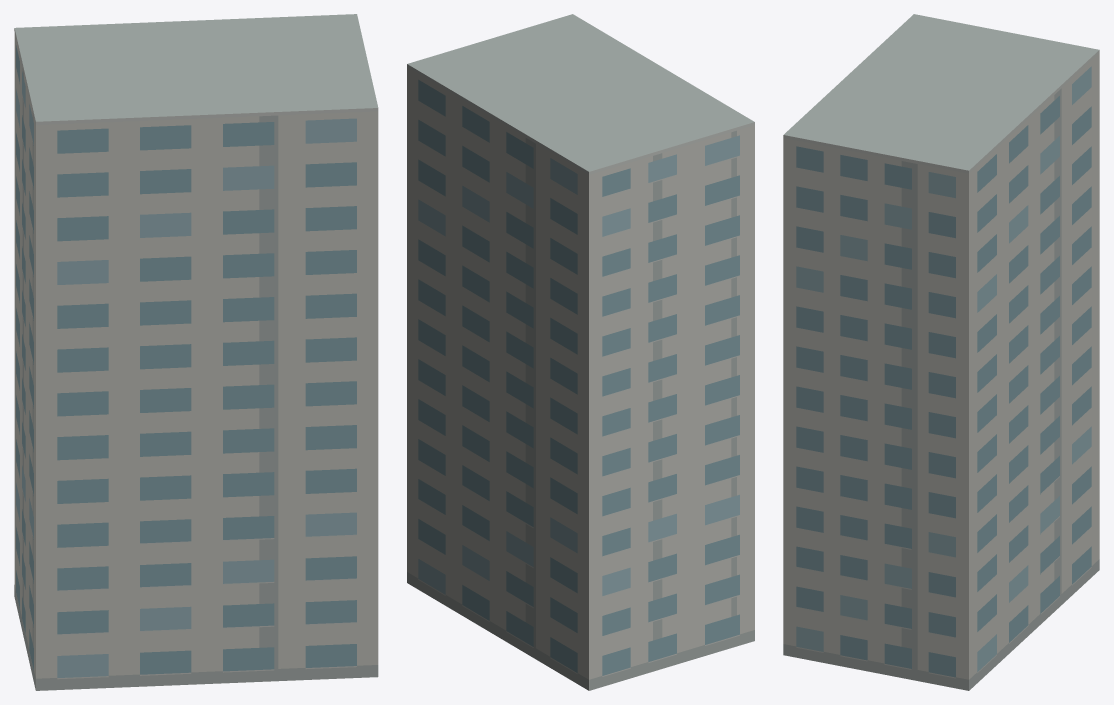
Rendered from residential-e25b2b83-52e9-4a4e-b485-febaace82a7d.glb.
3 renders of one model, left to right at view 1: azimuth 30°, elevation 25°; view 2: azimuth 150°, elevation 25°; view 3: azimuth 270°, elevation 25°, orthographic. The views are drawn at different scales.
Parts seen in each view (by area): view 1: residential-e25b2b83-52e9-4a4e-b485-febaace82a7d.tmp; view 2: residential-e25b2b83-52e9-4a4e-b485-febaace82a7d.tmp; view 3: residential-e25b2b83-52e9-4a4e-b485-febaace82a7d.tmp.
Part boxes in pixels (box(x1,y1,x2,y2)): residential-e25b2b83-52e9-4a4e-b485-febaace82a7d.tmp: box(14, 14, 378, 690); residential-e25b2b83-52e9-4a4e-b485-febaace82a7d.tmp: box(407, 14, 754, 690); residential-e25b2b83-52e9-4a4e-b485-febaace82a7d.tmp: box(783, 14, 1099, 690).
Bounding box in the file's own units: 25.2 × 39 × 21.5.
